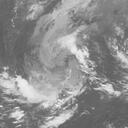cyclone: (22, 27, 96, 109)
